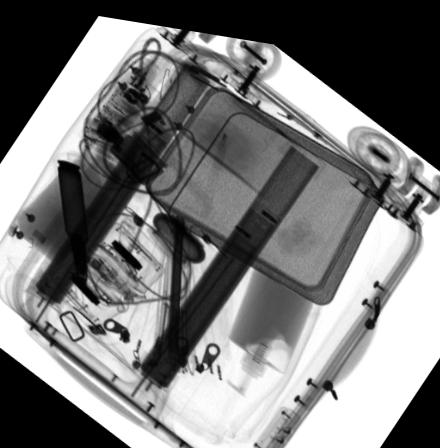Bullet: (57, 157, 89, 289)
